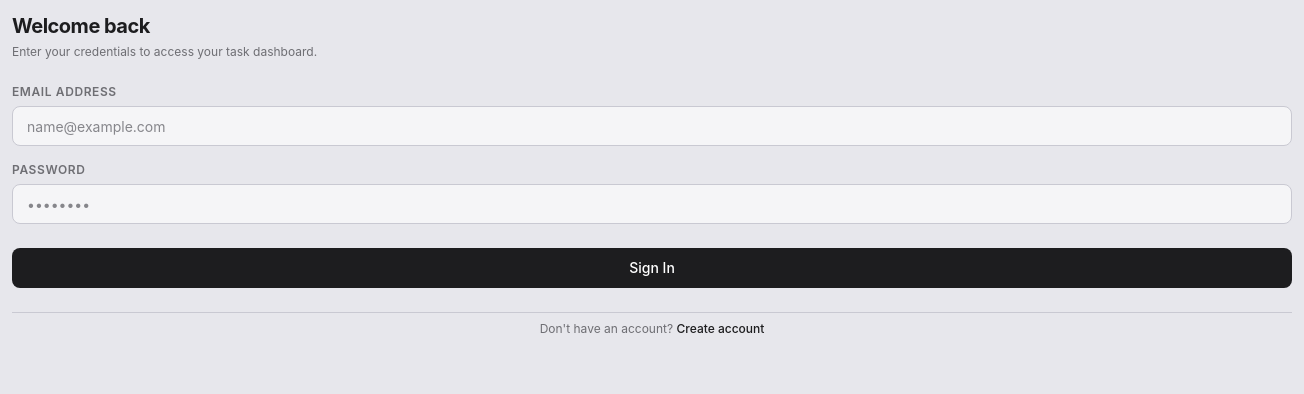
Test: LoginForm client validation › has noValidate and shows English field errors when submitted empty
Click the button "Sign In".
click(652, 268)  # box [12,248,1292,288]
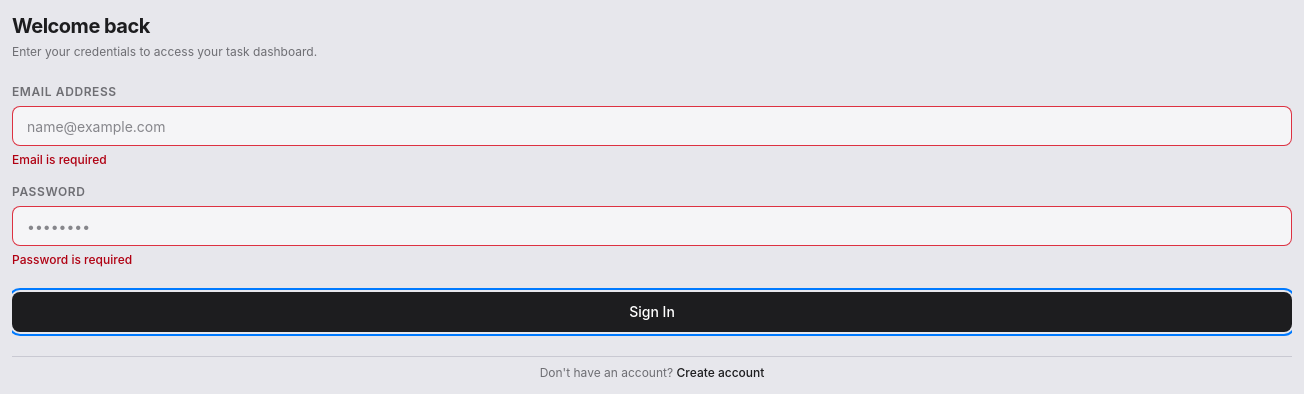
Result: the text "Email is required" is shown at [12,152,107,167]
Result: the text "Password is required" is shown at [12,252,132,267]
Type "test@example.com" into the field labelled "Email Address".
click(652, 126); type("test@example.com")  # box [12,106,1292,146]
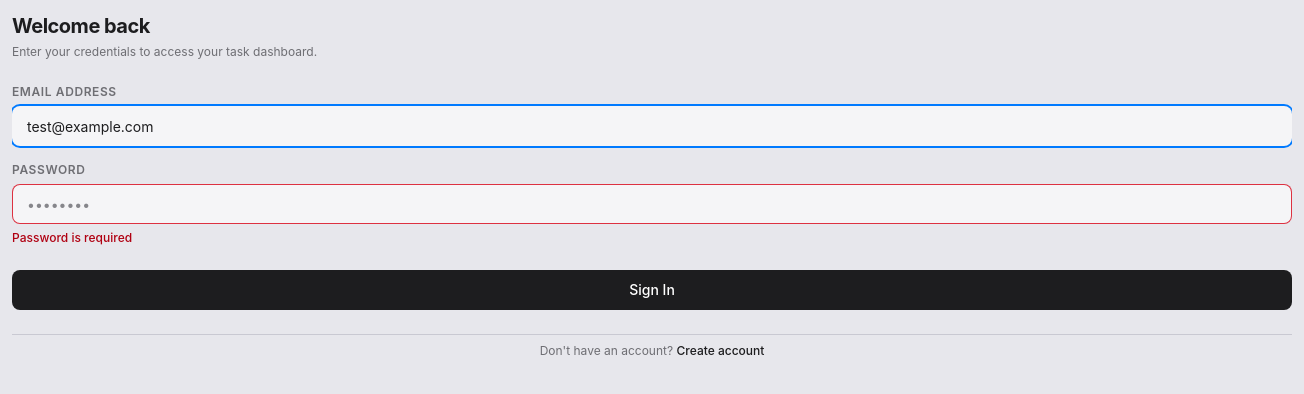
Result: the text "Email is required" is gone
